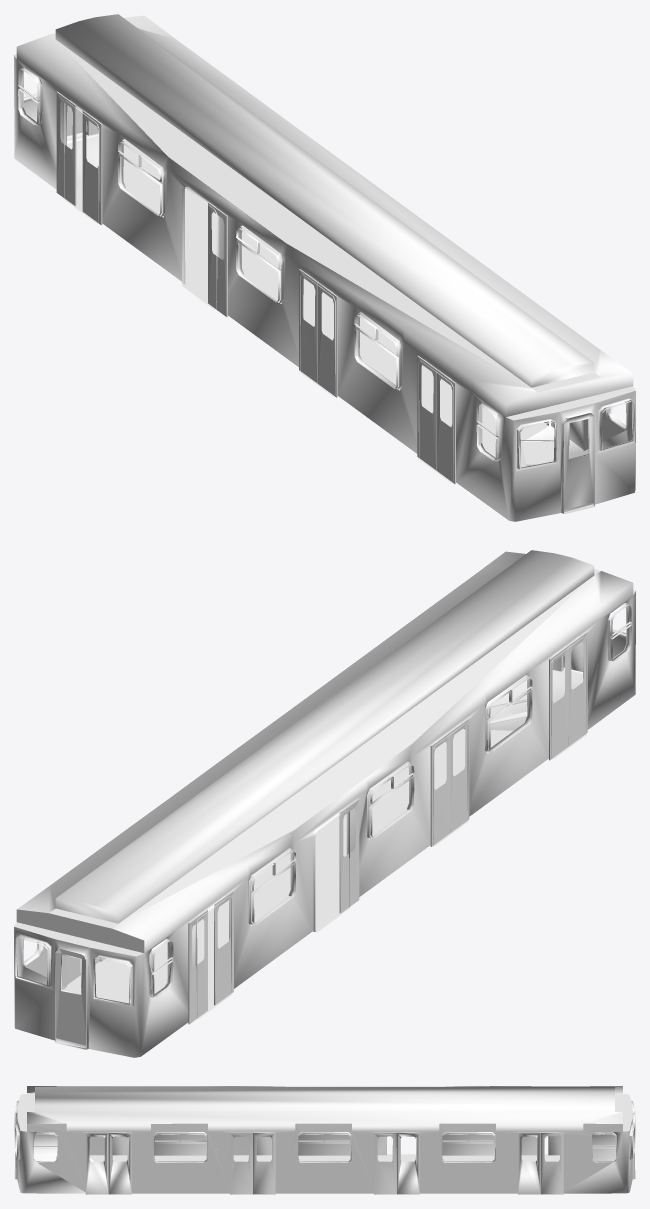
3 views of the same model, one above another, from view 1: azimuth 30°, elevation 25°; view 2: azimuth 150°, elevation 25°; view 3: azimuth 270°, elevation 25° (orthographic). The views are drawn at different scales.
Bounding box in the file's own units: 2.9 × 2.68 × 18.85.
1 material, 1 textured.
